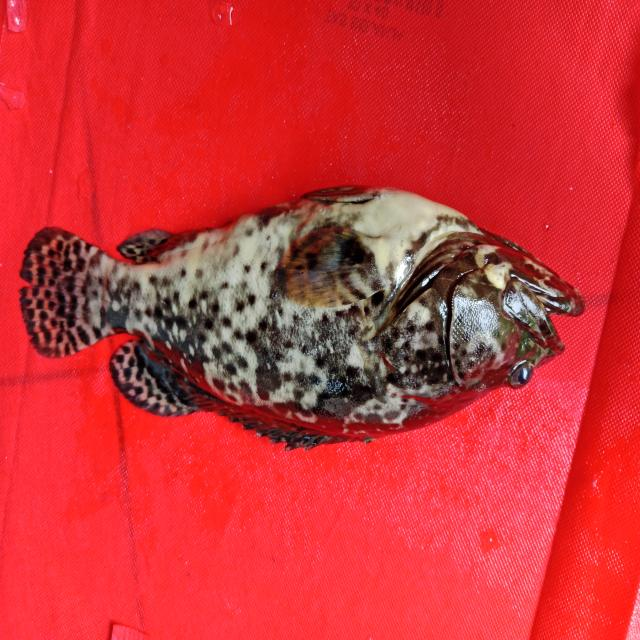ikan: (22, 163, 609, 469)
